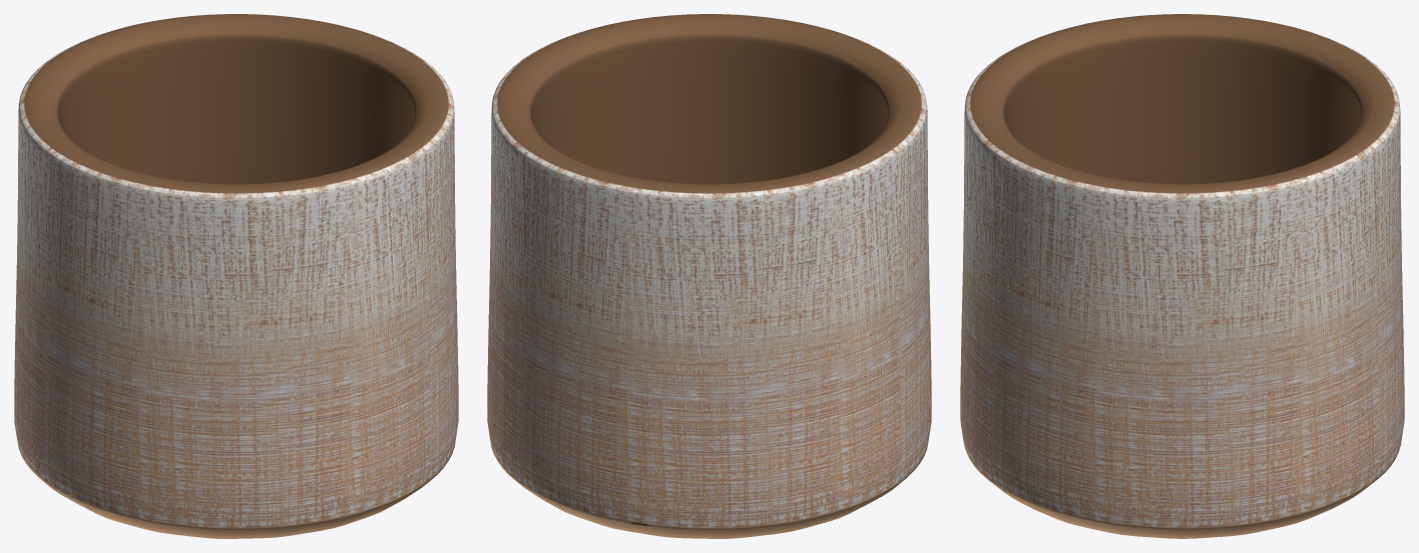
File: B075HWDSZ1.glb
3 renders of one model, left to right at view 1: azimuth 30°, elevation 25°; view 2: azimuth 150°, elevation 25°; view 3: azimuth 270°, elevation 25°, orthographic.
Visible parts, largest first — view 1: RootNode; view 2: RootNode; view 3: RootNode.
Boxes of the visible parts, x1,y1,x2,y2 form: RootNode: (14,14,458,538); RootNode: (487,14,931,538); RootNode: (960,14,1404,538).
Size of the model in its own units: 0.1087 by 0.0959 by 0.1087.
Materials: 1 (1 with a texture image).
